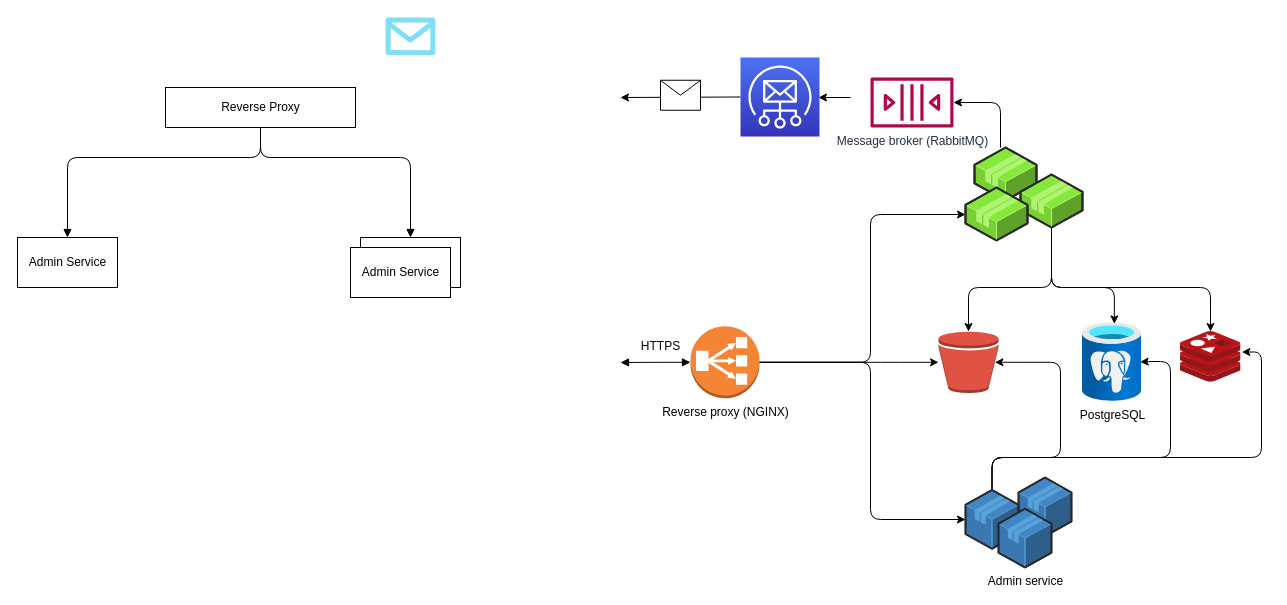
This 1287x605 diagram has some shape labels left out. The shapes that lost their labels are listed below. From the top down, each one's box as (x1, y1, x2, y2) in pixels, then its label:
(740, 56, 820, 136): Email Service
(964, 186, 1028, 240): API
(938, 330, 998, 393): S3 Bucket
(1180, 331, 1240, 382): Redis Cache
